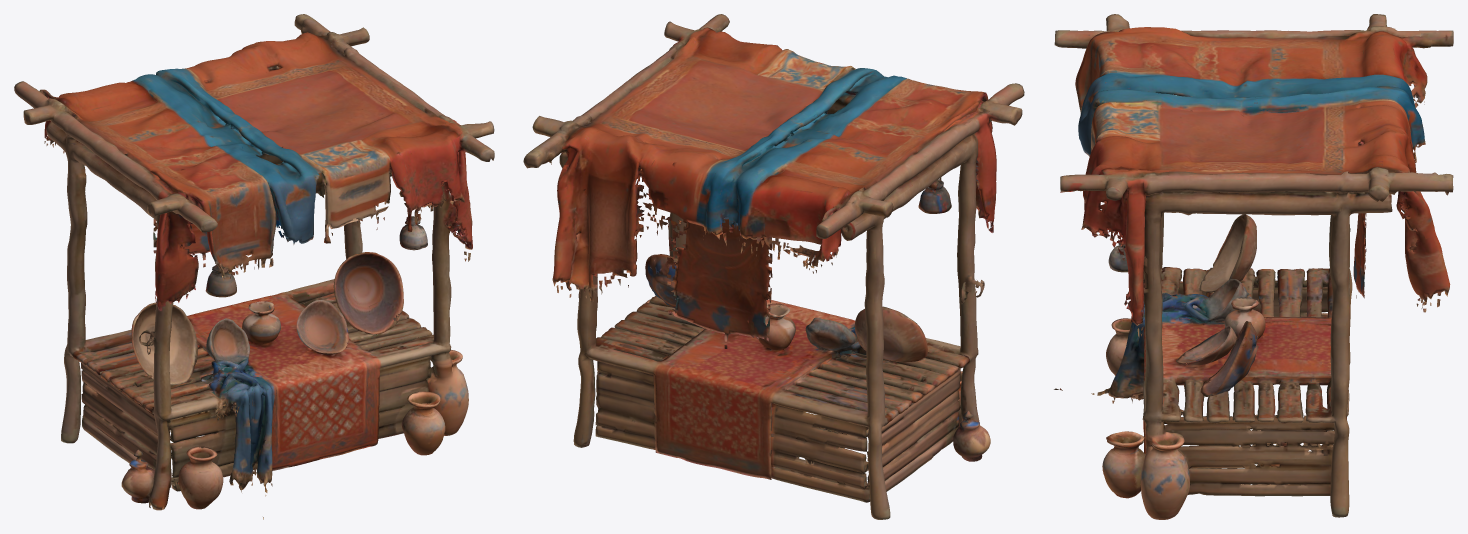
The model's file is o65_renkli_carsi_tezgahi.glb.
3 views of the same model, side by side, from view 1: azimuth 30°, elevation 25°; view 2: azimuth 150°, elevation 25°; view 3: azimuth 270°, elevation 25° (orthographic). The views are drawn at different scales.
Bounding box in the file's own units: 2 × 1.86 × 1.94.
1 material, 1 textured.
